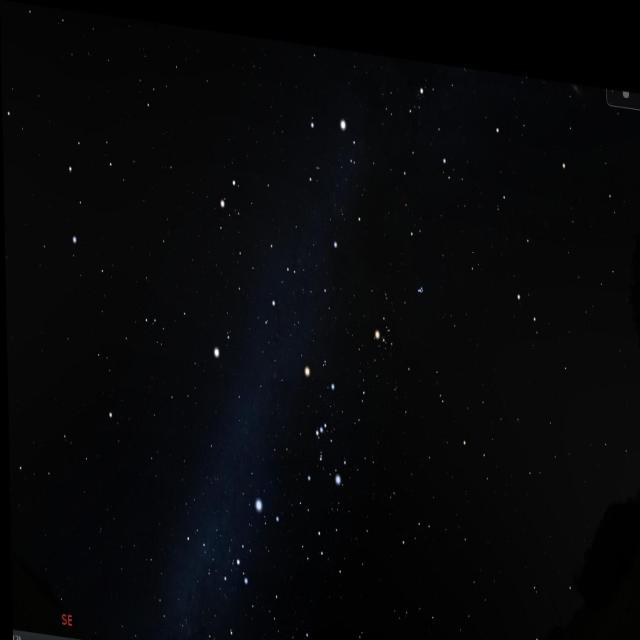canis_major: (233, 478, 282, 594)
canis_minor: (206, 318, 236, 364)
gemini: (216, 163, 296, 314)
orion: (294, 346, 354, 494)
pleiades: (412, 267, 428, 292)
taurus: (367, 242, 438, 358)
